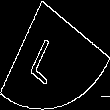L_NE: (36, 25, 74, 85)
